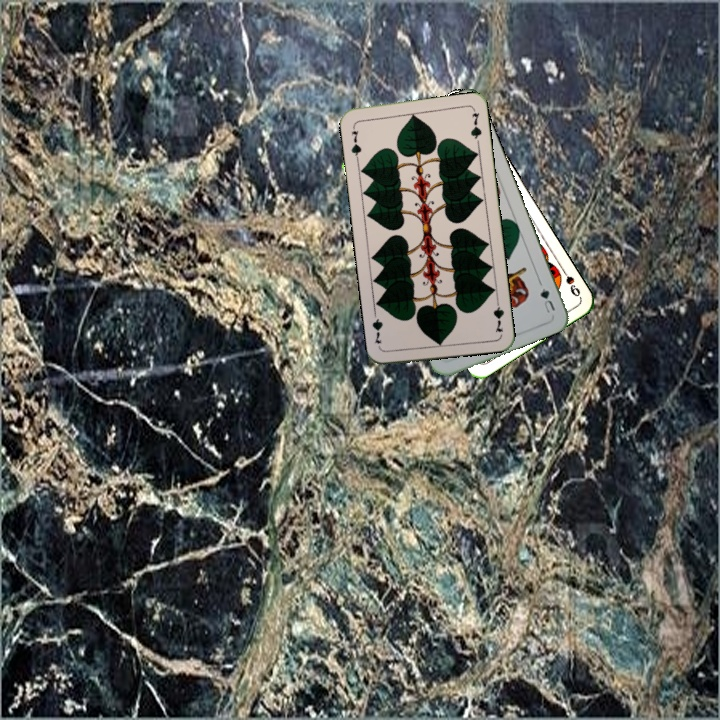G7: (489, 294, 506, 335), (347, 122, 364, 162)
GU: (535, 278, 558, 317)
S9: (556, 263, 583, 299)
